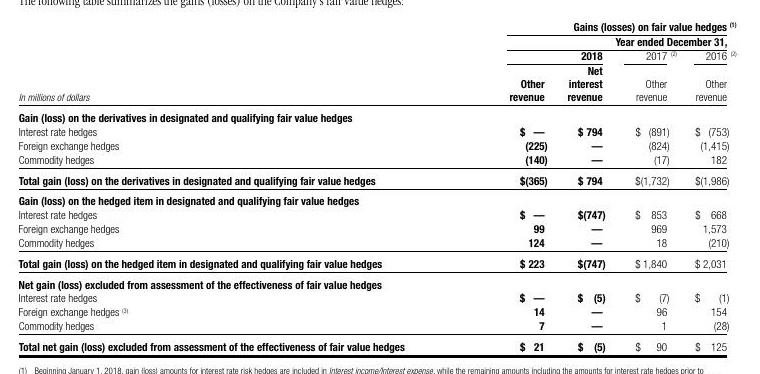table: (0, 0, 760, 374)
